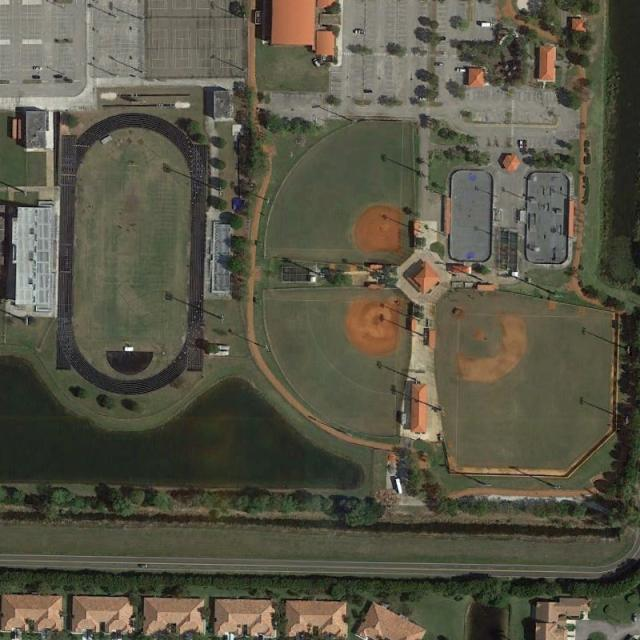vehicle: (313, 58, 322, 68), (456, 67, 467, 73), (138, 563, 149, 569), (481, 22, 493, 27), (354, 30, 365, 35), (434, 62, 445, 67), (363, 89, 373, 94), (33, 66, 42, 71), (32, 74, 41, 79), (53, 74, 62, 79), (418, 96, 426, 101), (519, 140, 523, 149)
